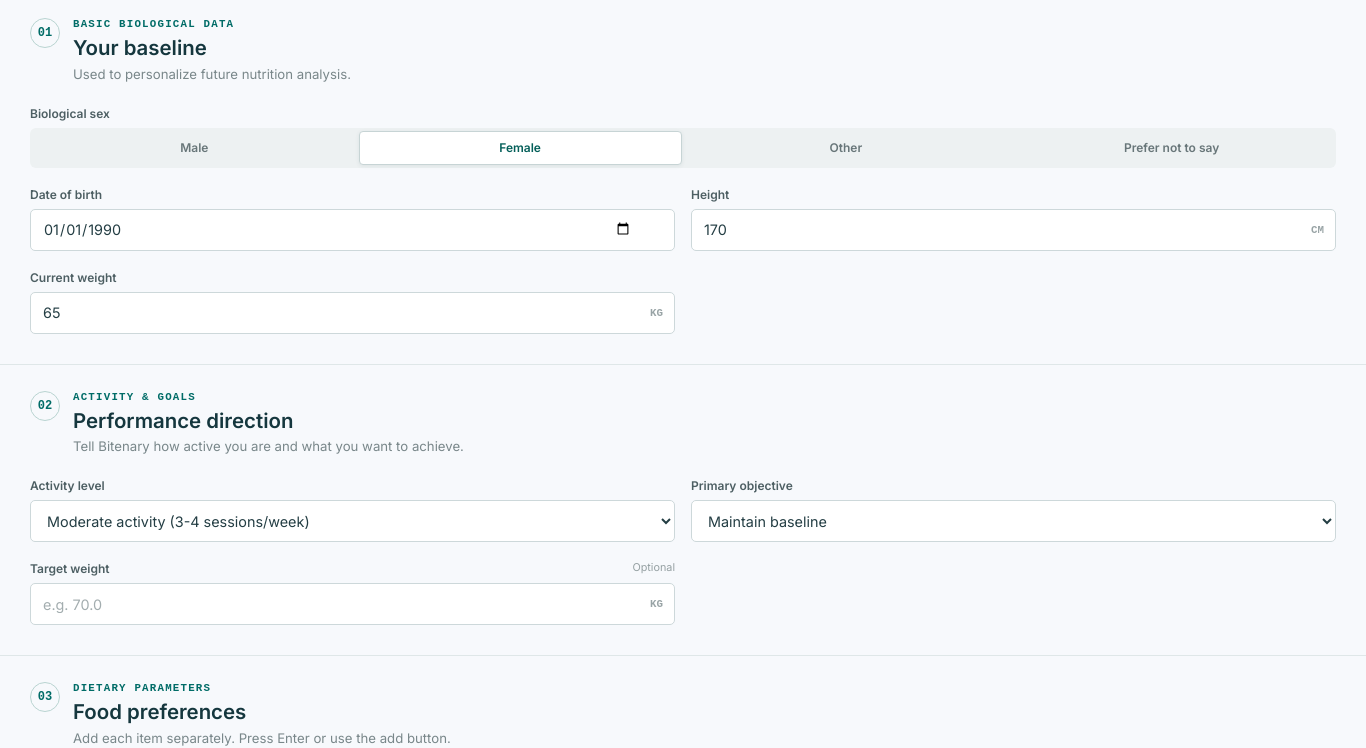
HealthProfileForm validation › shows the application error for a negative height
The width and height of the screenshot is (1366, 748).
Replace the text in the number field labelled "Height cm" with "-5" at (1014, 230), box [691,209,1336,251]
(page scrolled)
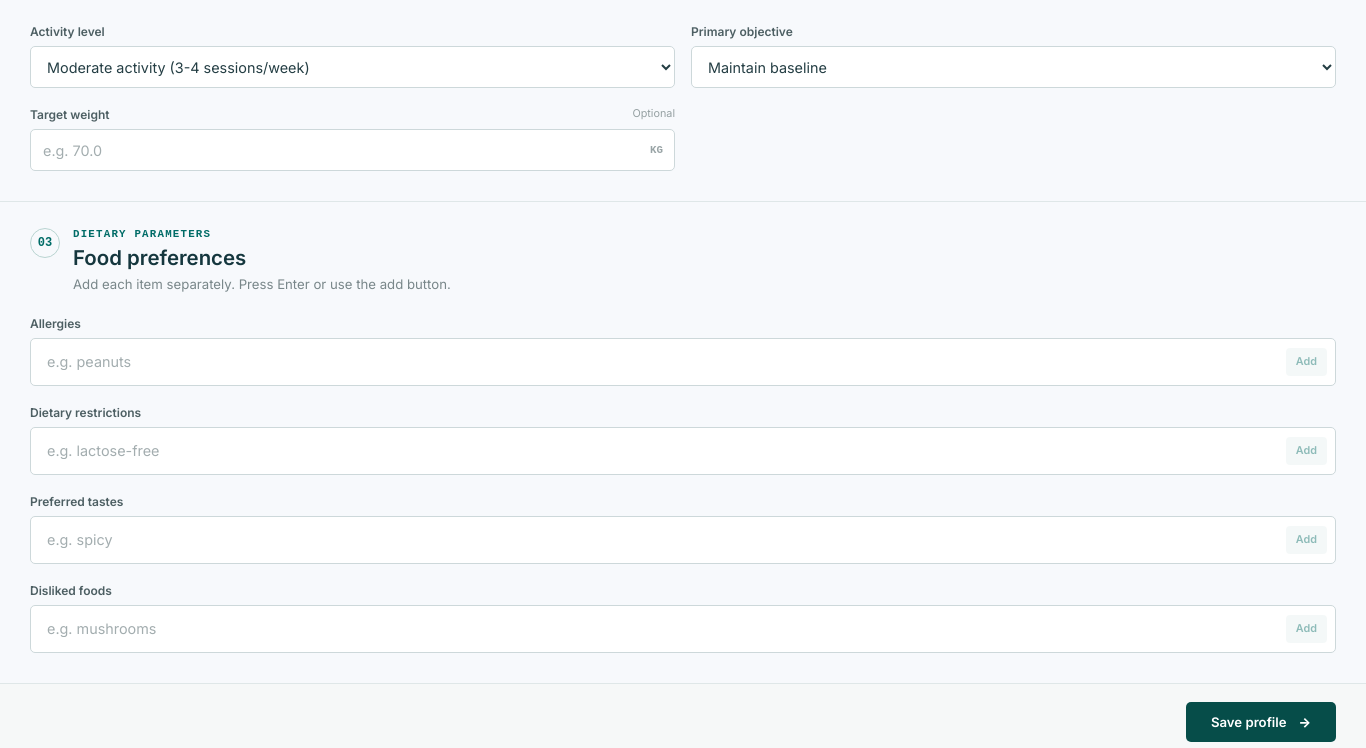
Click the button "Save profile →" at (1261, 722), box [1186,702,1336,742]
(page scrolled)
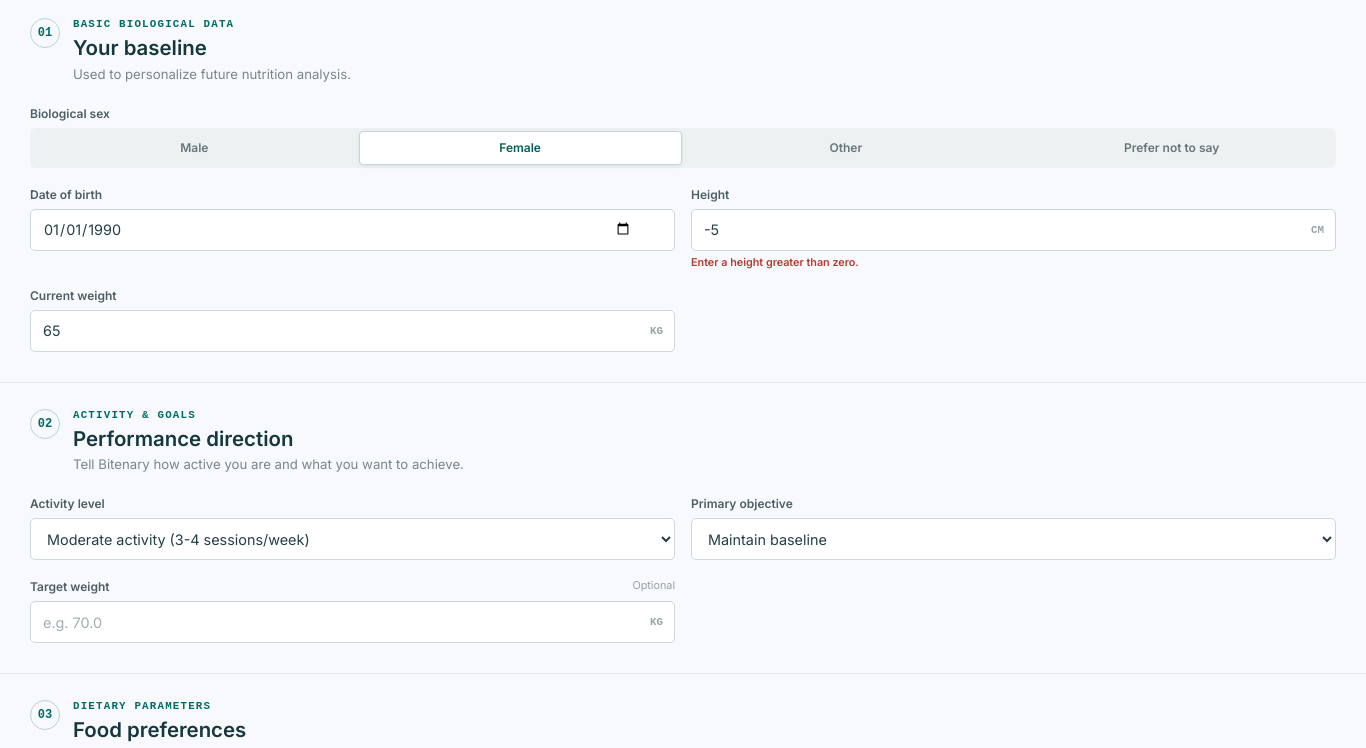
Expected: the text "Enter a height greater than zero." is shown, [691,256,859,269]
